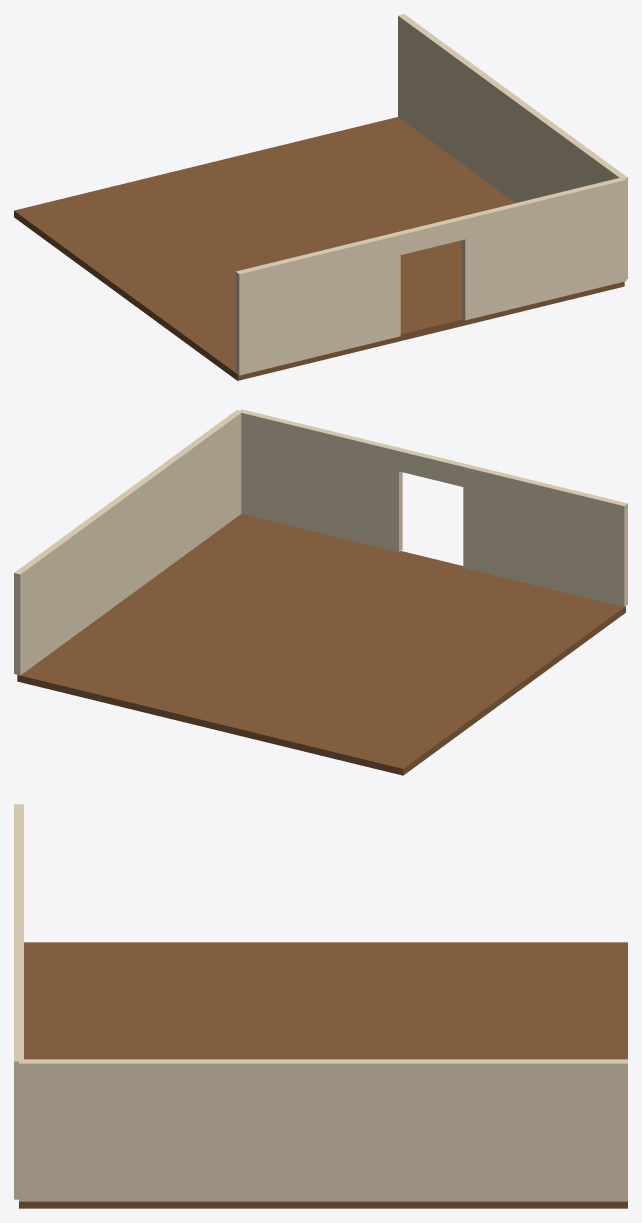
File: SM_Studio_Shell.fbx
3 renders of one model, top to bottom at view 1: azimuth 30°, elevation 25°; view 2: azimuth 150°, elevation 25°; view 3: azimuth 270°, elevation 25°, orthographic. The views are drawn at different scales.
Parts seen in each view (by area): view 1: Floor, Wall_Left, Wall_Back_Right, Wall_Back_Left, Wall_Back_Lintel; view 2: Floor, Wall_Left, Wall_Back_Right, Wall_Back_Left, Wall_Back_Lintel; view 3: Wall_Left, Floor, Wall_Back_Left, Wall_Back_Right.
Boxes of the visible parts, <box> form: Floor: <box>14,117,624,380</box>; Wall_Left: <box>398,14,627,278</box>; Wall_Back_Right: <box>235,232,400,375</box>; Wall_Back_Left: <box>461,177,626,320</box>; Wall_Back_Lintel: <box>397,216,465,254</box>; Floor: <box>17,514,625,775</box>; Wall_Left: <box>14,410,241,675</box>; Wall_Back_Right: <box>463,464,627,606</box>; Wall_Back_Left: <box>238,409,402,551</box>; Wall_Back_Lintel: <box>399,448,466,486</box>; Wall_Left: <box>19,1059,627,1201</box>; Floor: <box>19,942,627,1208</box>; Wall_Back_Left: <box>14,954,23,1199</box>; Wall_Back_Right: <box>14,804,23,911</box>.
Bounding box in the file's own units: 12.1 × 3.2 × 12.1.
